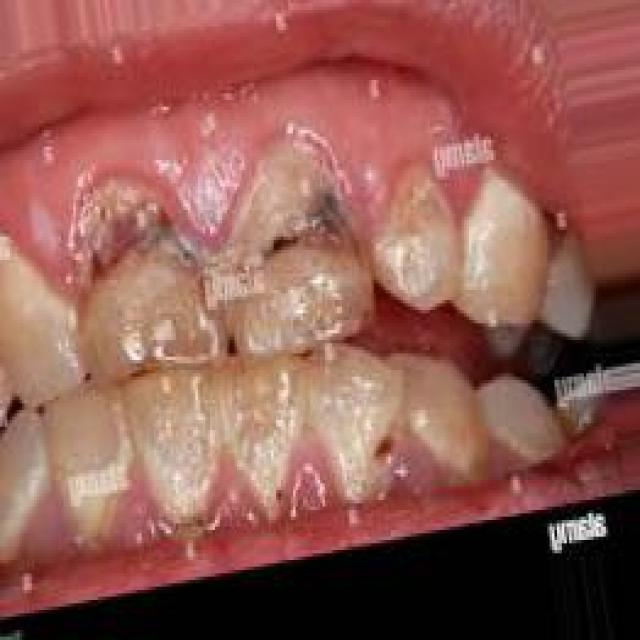caries: (57, 157, 217, 359), (225, 129, 376, 332), (391, 153, 465, 265)
